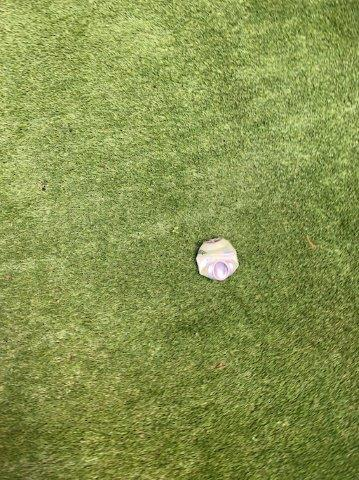kaleng: (196, 237, 239, 281)
